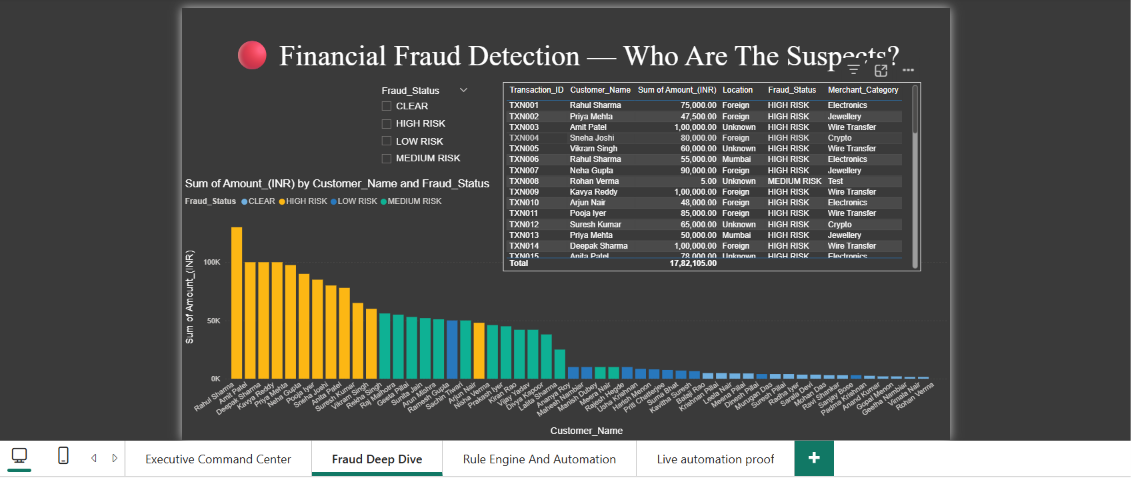

Layout of this report page (visuals, bound fields, positions):
{"tool":"powerbi","page":{"name":"Fraud Deep Dive","canvas":[1280,720],"ordinal":1},"visuals":[{"type":"textbox","box":[0,38.6,1280.7,280.7],"z":0},{"type":"columnChart","fields":{"Category":["Transaction_data.Customer_Name"],"Y":["Sum(Transaction_data.Amount_(INR))"],"Series":["Transaction_data.Fraud_Status"]},"box":[0,282.5,1280.7,436.8],"z":1000},{"type":"tableEx","fields":{"Values":["Transaction_data.Transaction_ID","Transaction_data.Customer_Name","Sum(Transaction_data.Amount_(INR))","Transaction_data.Location","Transaction_data.Fraud_Status","Transaction_data.Merchant_Category"]},"box":[535.1,122.8,696.5,315.8],"z":2000},{"type":"slicer","fields":{"Values":["Transaction_data.Fraud_Status"]},"box":[319.3,122.8,168.4,159.6],"z":3000}]}

Visuals, with their boxes on the page's 1280x720 design canvas (x1, y1, x2, y2). These are canvas units, not pixel positions in the 1131x478 screenshot, which may show the page scaled, cropped or inside an application window:
textbox: bbox=[0, 39, 1281, 319]
columnChart - Transaction_data.Customer_Name x Sum(Transaction_data.Amount_(INR)): bbox=[0, 282, 1281, 719]
tableEx - Transaction_data.Transaction_ID x Transaction_data.Customer_Name: bbox=[535, 123, 1232, 439]
slicer - Transaction_data.Fraud_Status: bbox=[319, 123, 488, 282]
